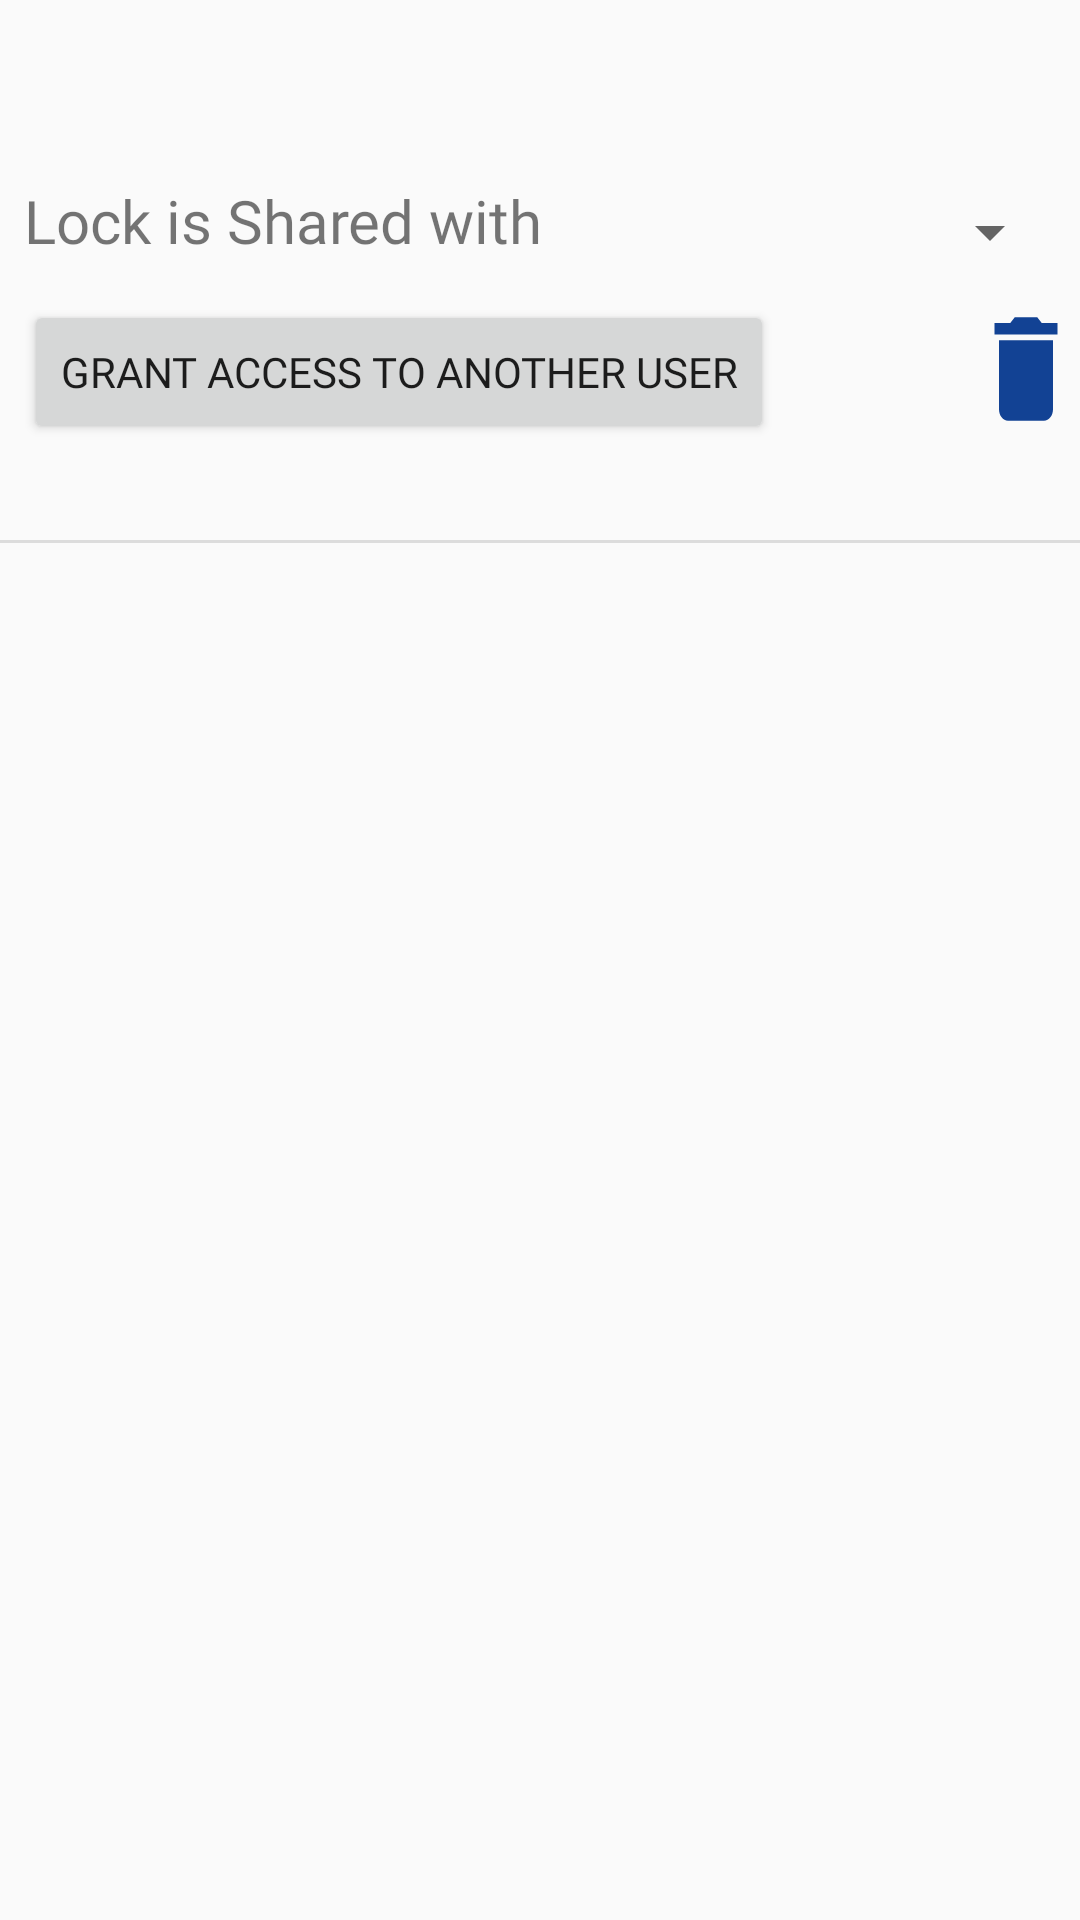

Icon click points for this 1080 × 1920 phone screenshot, format point (x, y):
delete: point (1026, 369)
